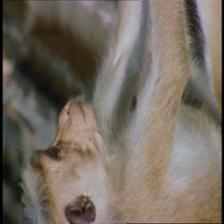monkey: (18, 87, 121, 223)
